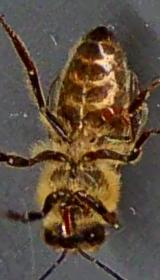varroa_mite: (90, 97, 130, 128)
